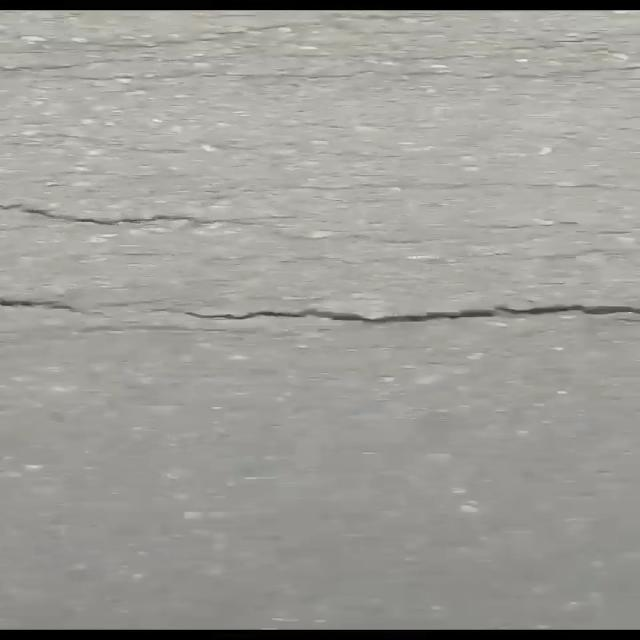Melintang: (0, 285, 640, 340)
